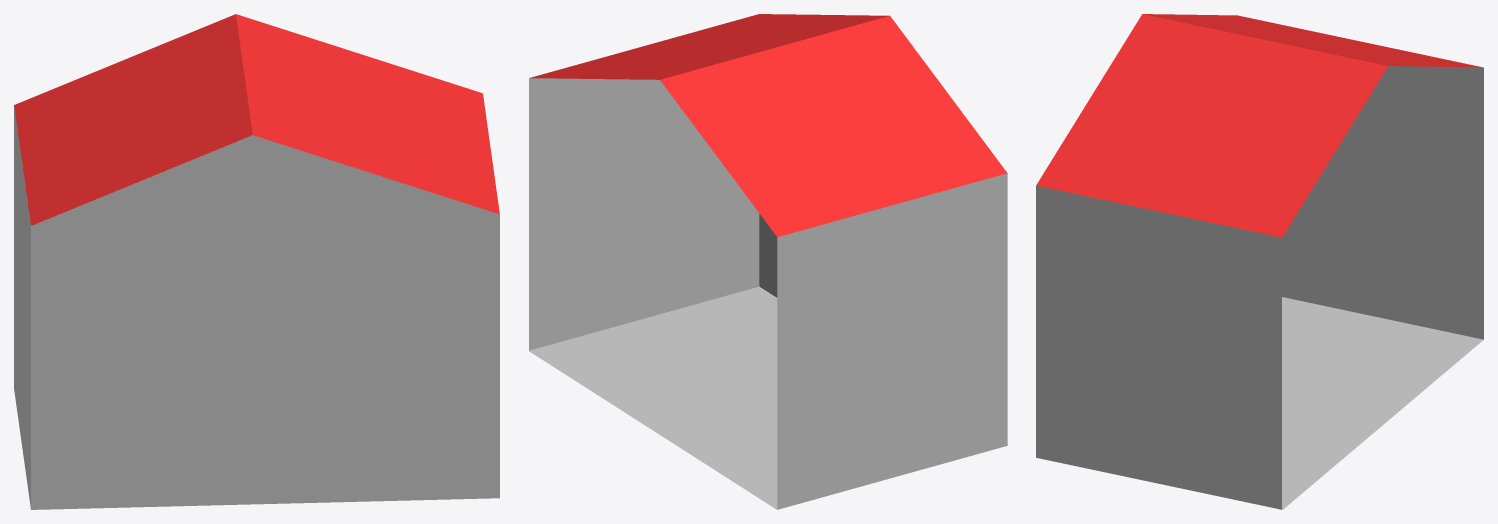
Rendered from pb-477ad06a-7f52-11f0-8601-9c7bef4dcf4c.dae.
3 renders of one model, left to right at view 1: azimuth 30°, elevation 25°; view 2: azimuth 150°, elevation 25°; view 3: azimuth 270°, elevation 25°, orthographic. The views are drawn at different scales.
Bounding box in the file's own units: 10.52 × 8.95 × 7.81.
